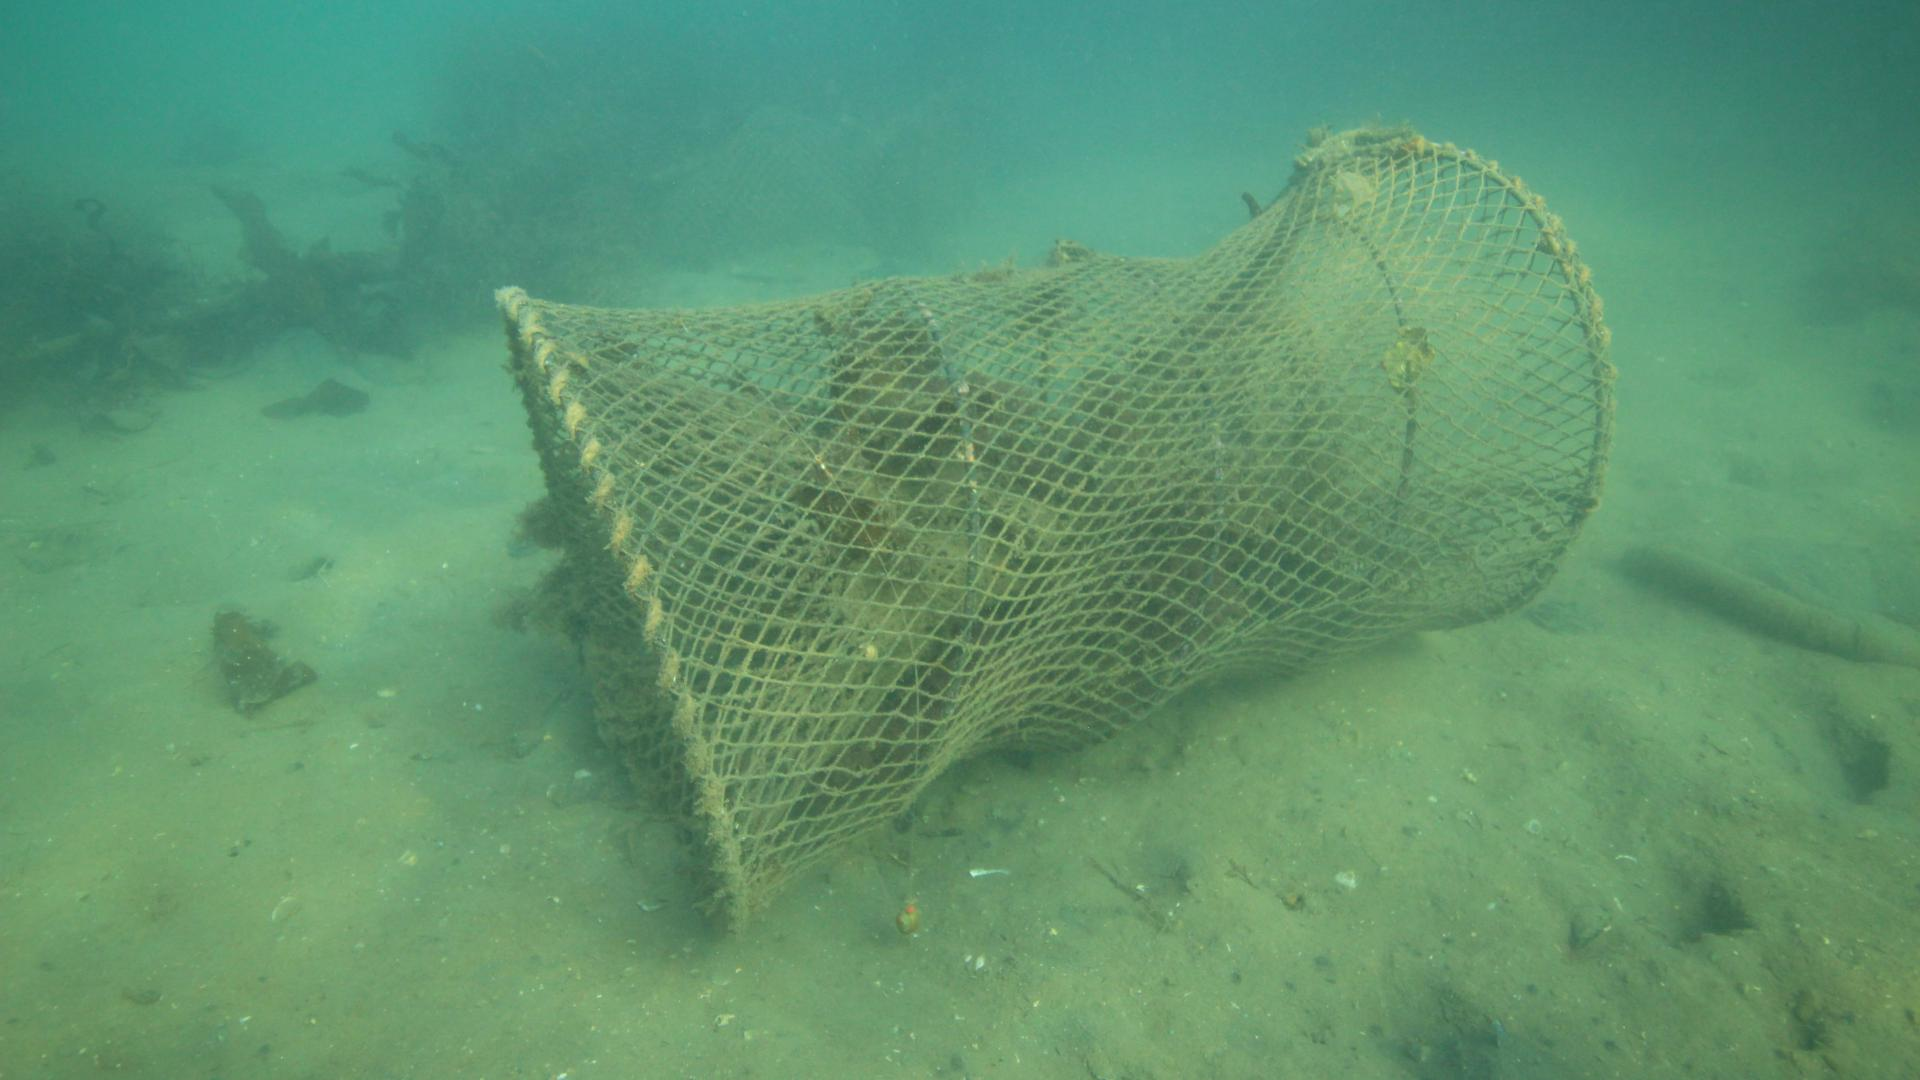spring fish trap: (500, 133, 1614, 935)
